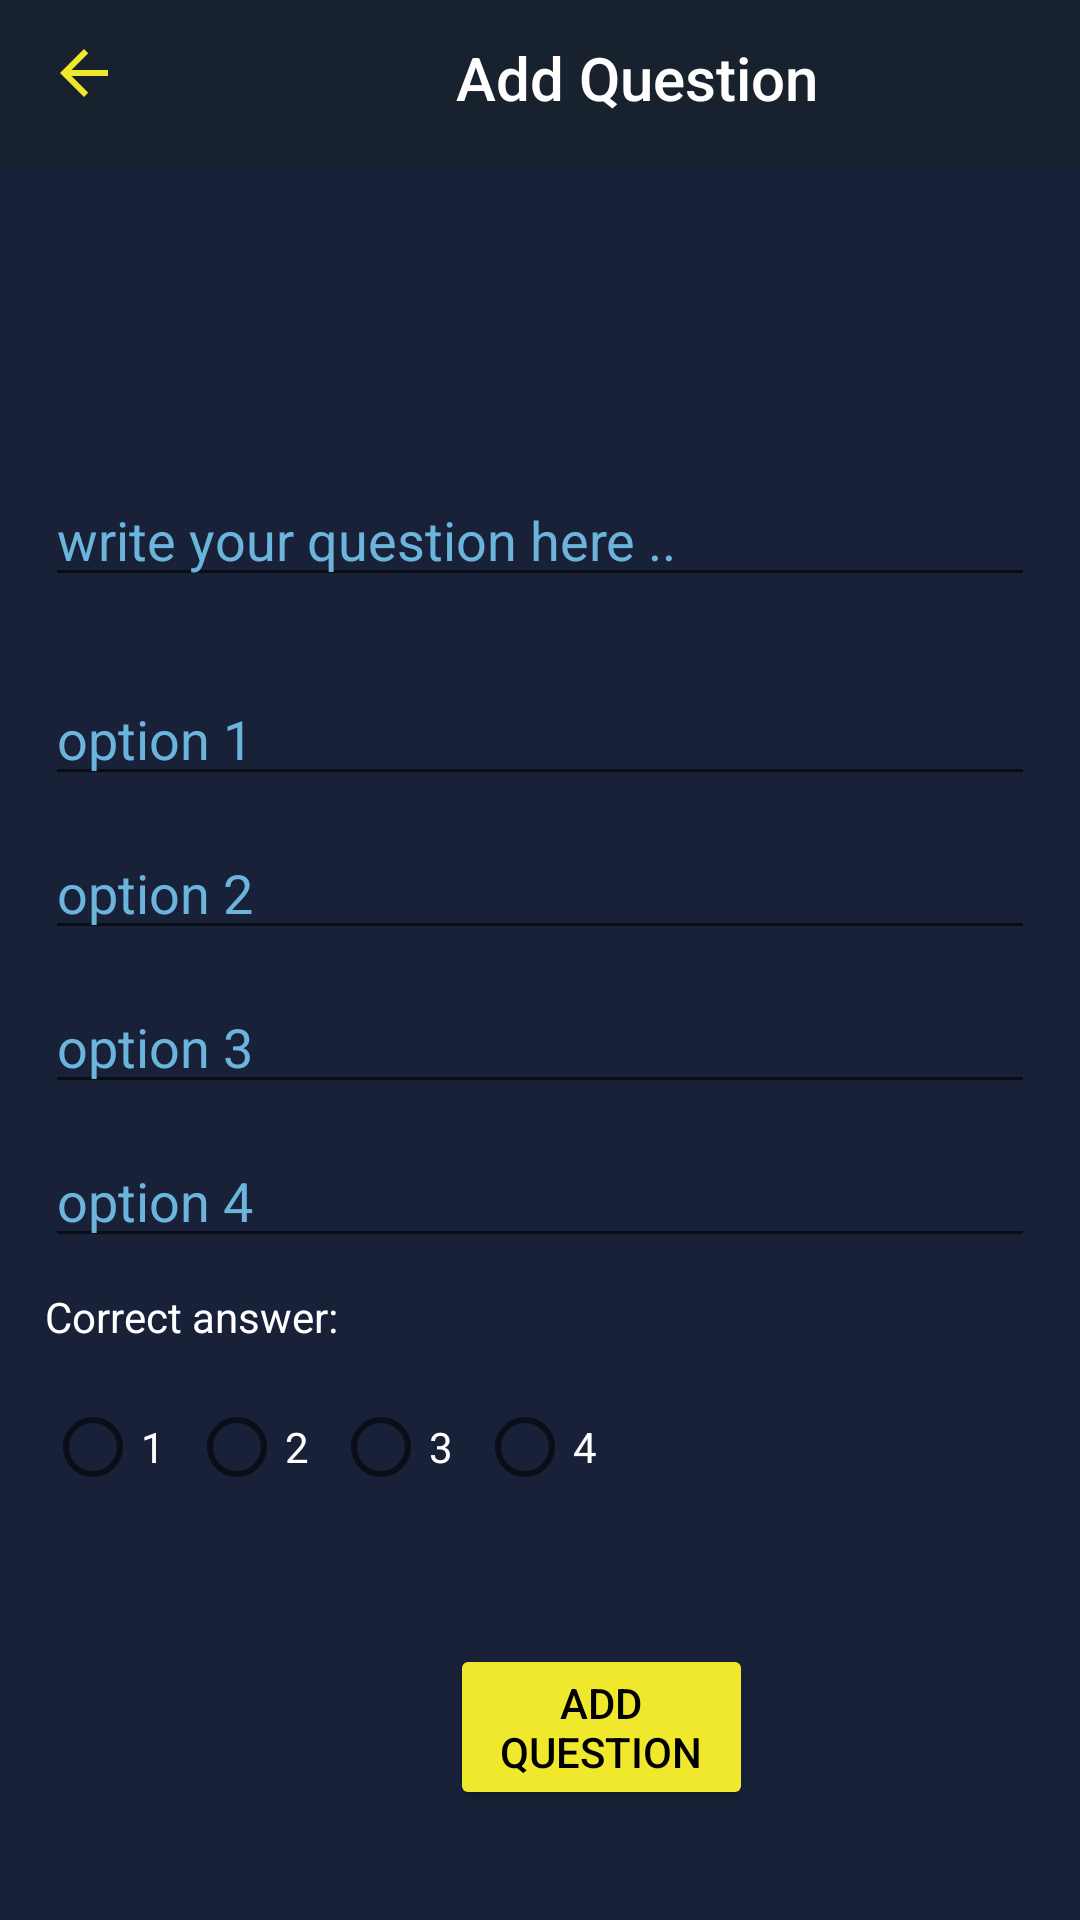

Point at icon controls on the screen. Image size 1080 × 1920, points as [x,y].
back: [84,73]
